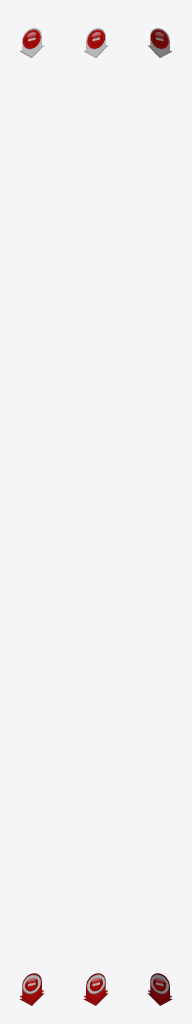
File: Bet_down.fbx
The picture shows the model from 3 angles, left to right: view 1: azimuth 30°, elevation 25°; view 2: azimuth 210°, elevation 25°; view 3: azimuth 330°, elevation 25°; orthographic projection.
Visible parts, largest first — view 1: Bet_down_default, Bet_down_mouseover; view 2: Bet_down_default, Bet_down_mouseover; view 3: Bet_down_default, Bet_down_mouseover.
Boxes of the visible parts, x1,y1,x2,y2 form: Bet_down_default: [20, 28, 43, 57]; Bet_down_mouseover: [20, 973, 43, 1002]; Bet_down_default: [84, 28, 107, 57]; Bet_down_mouseover: [84, 973, 107, 1002]; Bet_down_default: [148, 28, 171, 57]; Bet_down_mouseover: [148, 973, 171, 1002].
Bounding box in the file's own units: 5.66 × 198 × 6.93e-16.
3 materials, 3 textured.
